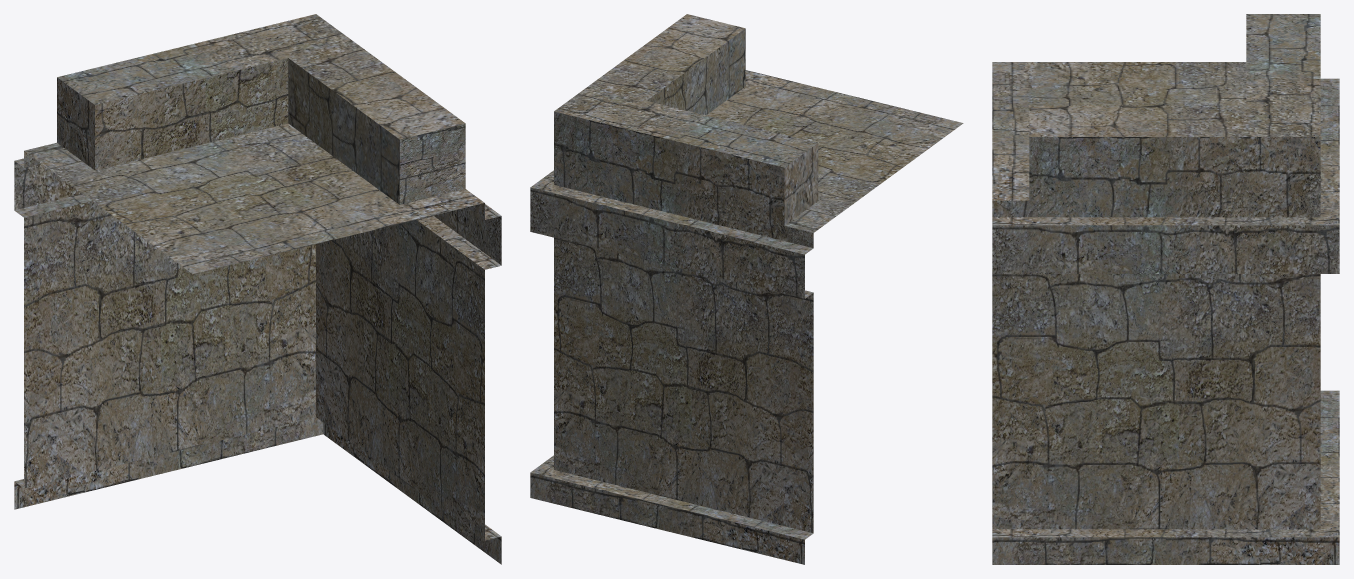
The model's file is B_R_Corner.FBX.
The picture shows the model from 3 angles, left to right: view 1: azimuth 30°, elevation 25°; view 2: azimuth 150°, elevation 25°; view 3: azimuth 270°, elevation 25°; orthographic projection. The views are drawn at different scales.
Parts seen in each view (by area): view 1: Claimed102NE001; view 2: Claimed102NE001; view 3: Claimed102NE001.
Part boxes in pixels (left/top/right/bottom): Claimed102NE001: left=14, top=14, right=501, bottom=564; Claimed102NE001: left=530, top=14, right=963, bottom=564; Claimed102NE001: left=992, top=14, right=1339, bottom=564.
Bounding box in the file's own units: 100 × 133 × 100.
